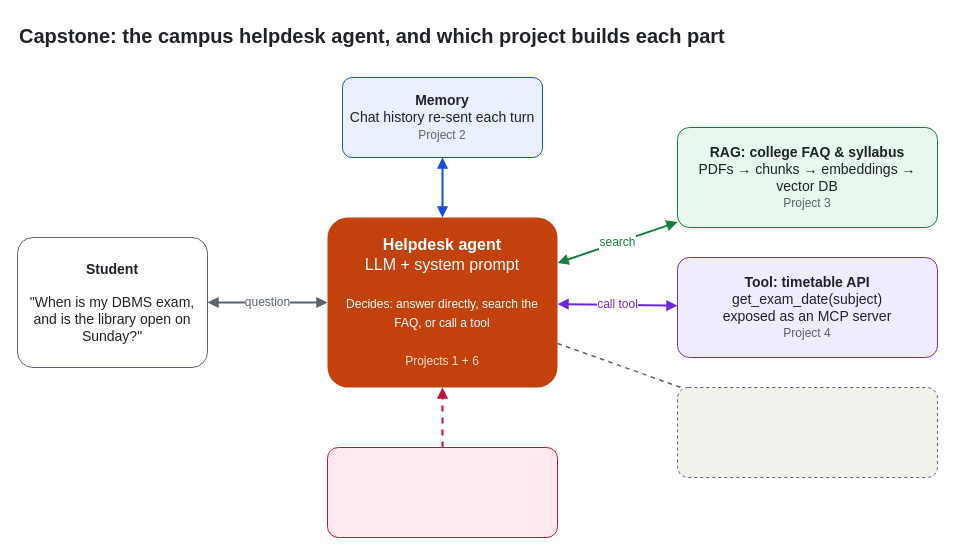
Some shapes in this 955 by 555 pixel diagram are drawn without their labels. The shapes that lost their labels are listed below. From the top down, each one's centre as x and y in pixels, then its label:
(x=807, y=432): Deploy as an API FastAPI + serverless / container Session 9 (stretch goal)
(x=442, y=492): Guardrails Say "I don't know", refuse unsafe asks, no private data Session 5
